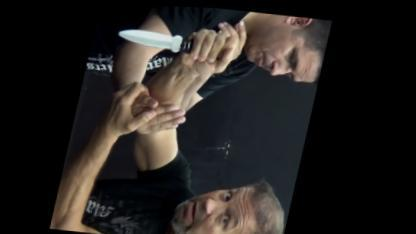knife: (110, 14, 242, 70)
